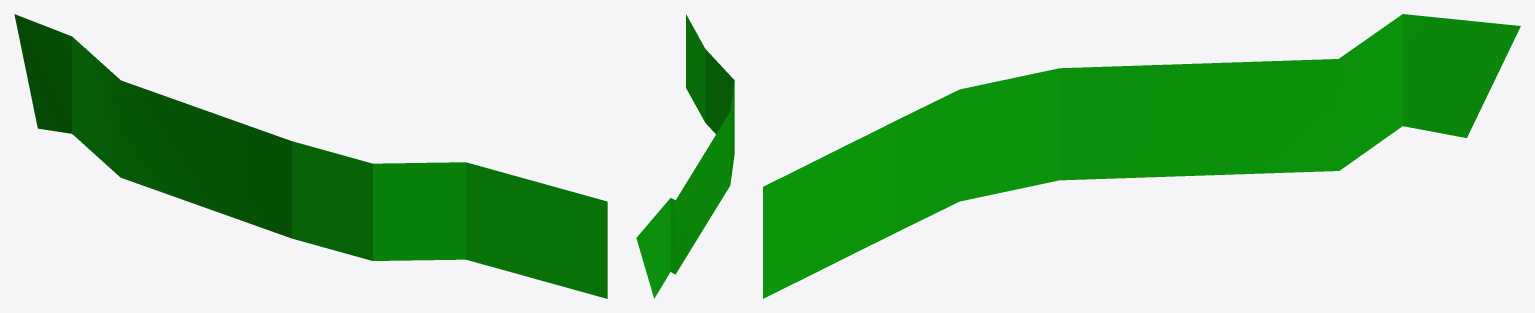
File: M8_Idiot_Stopper_11.glb
3 renders of one model, left to right at view 1: azimuth 30°, elevation 25°; view 2: azimuth 150°, elevation 25°; view 3: azimuth 270°, elevation 25°, orthographic. The views are drawn at different scales.
Visible parts, largest first — view 1: M8_IDIOT_STOPPER_11; view 2: M8_IDIOT_STOPPER_11; view 3: M8_IDIOT_STOPPER_11.
Boxes of the visible parts, <box> form: M8_IDIOT_STOPPER_11: <box>14,14,607,298</box>; M8_IDIOT_STOPPER_11: <box>636,14,734,298</box>; M8_IDIOT_STOPPER_11: <box>763,14,1520,298</box>.
Bounding box in the file's own units: 24.1 × 11.01 × 52.07.
